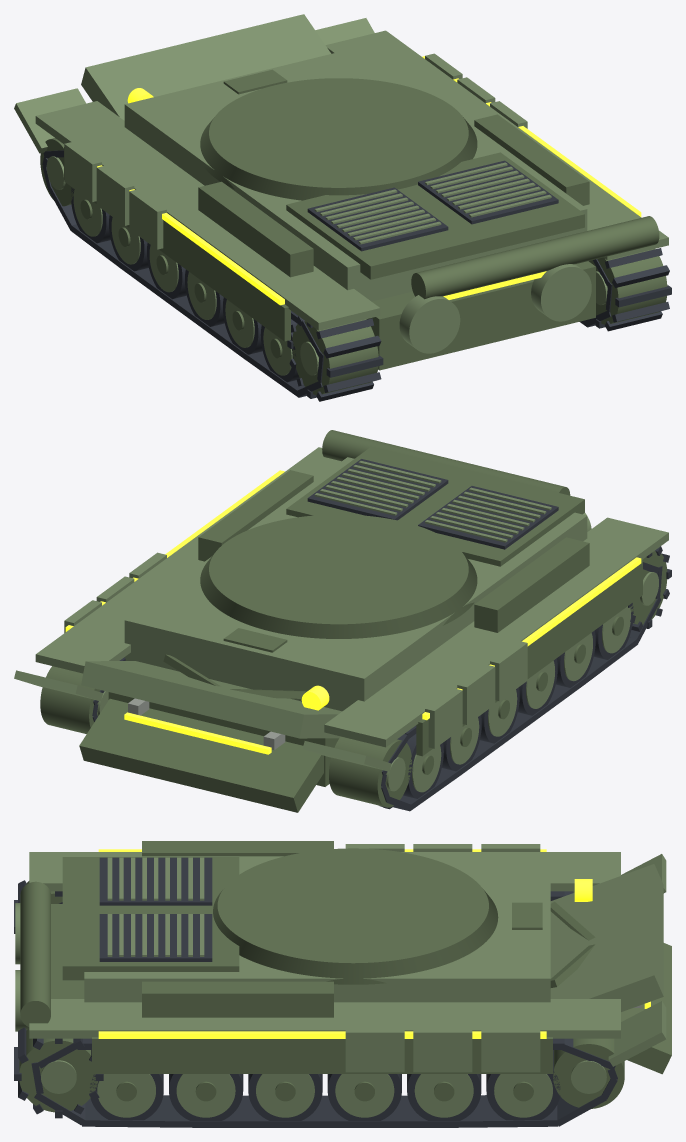
The model's file is Scatter_hull.glb.
3 views of the same model, one above another, from view 1: azimuth 30°, elevation 25°; view 2: azimuth 150°, elevation 25°; view 3: azimuth 270°, elevation 25° (orthographic). The views are drawn at different scales.
Parts seen in each view (by area): view 1: Scatter_Hull; view 2: Scatter_Hull; view 3: Scatter_Hull.
Boxes of the visible parts, x1,y1,x2,y2 form: Scatter_Hull: (14,14,671,401); Scatter_Hull: (14,430,671,812); Scatter_Hull: (14,841,671,1127).
Size of the model in its own units: 3.49 by 1.21 by 5.14.
